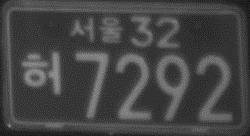2: (114, 52, 155, 122), (195, 53, 236, 123), (156, 16, 181, 50)
3: (128, 14, 154, 48)
7: (71, 50, 112, 120)
9: (154, 52, 192, 123)
서울_O: (68, 16, 124, 45)
허: (21, 50, 62, 97)
